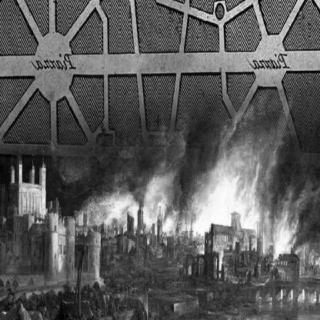Fire: (78, 130, 318, 256)
